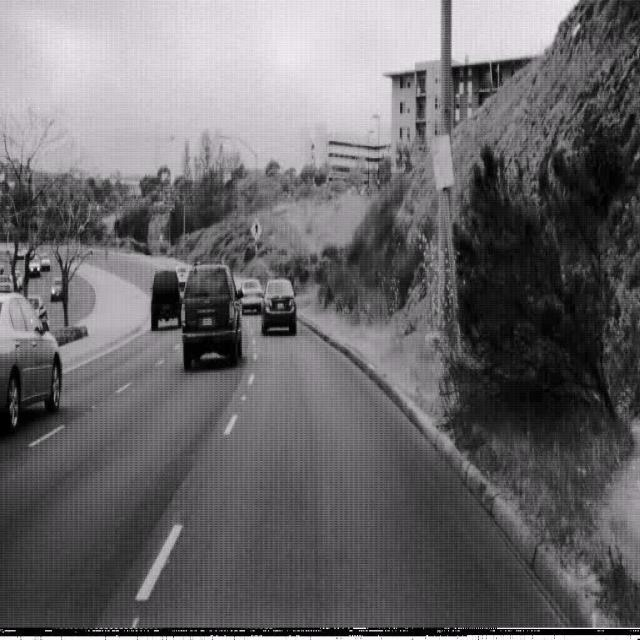pedestrianCrossing: (250, 216, 262, 241)
